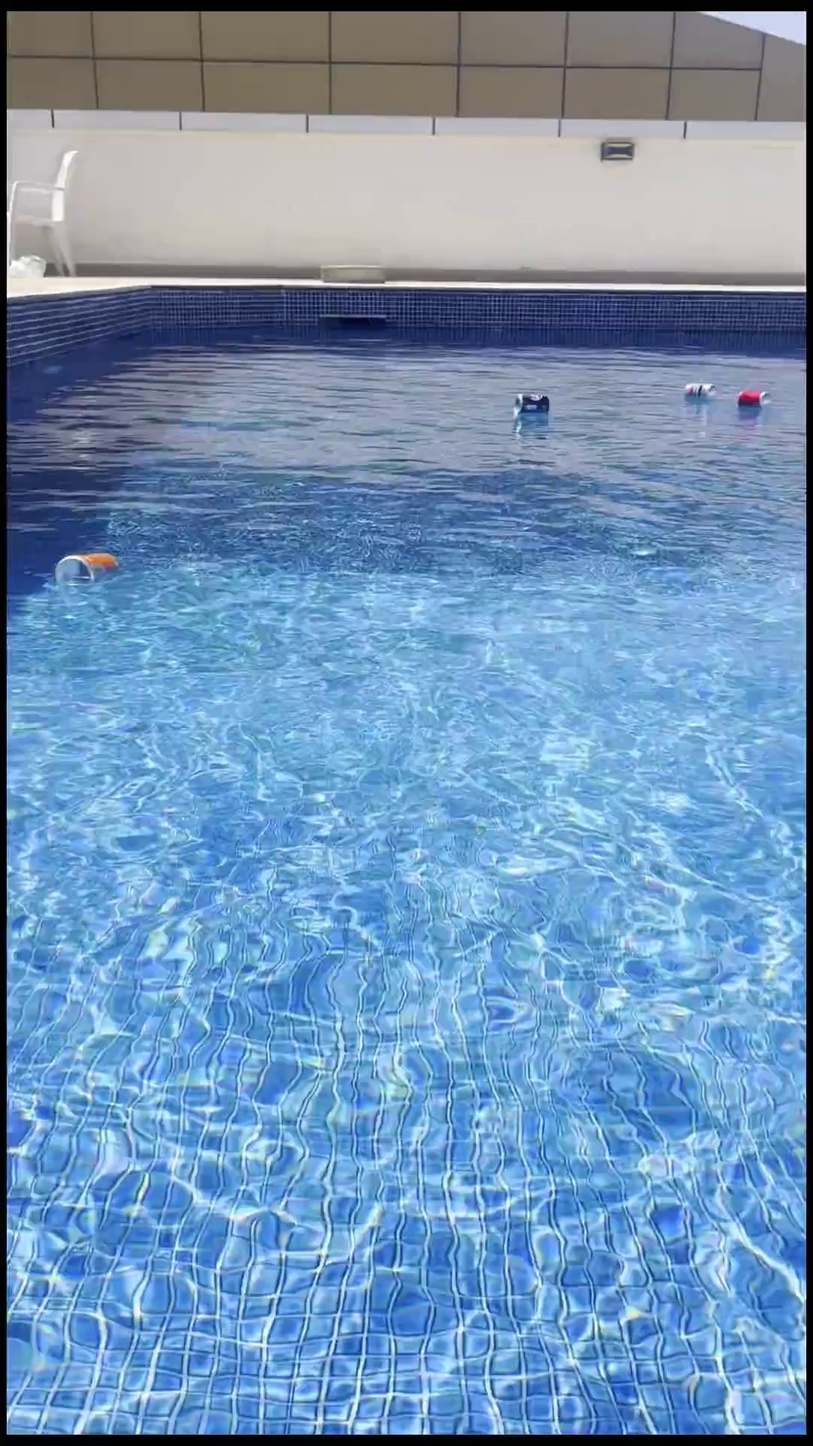debris: (49, 536, 121, 612), (508, 377, 550, 434), (733, 381, 766, 426), (678, 374, 714, 412)
